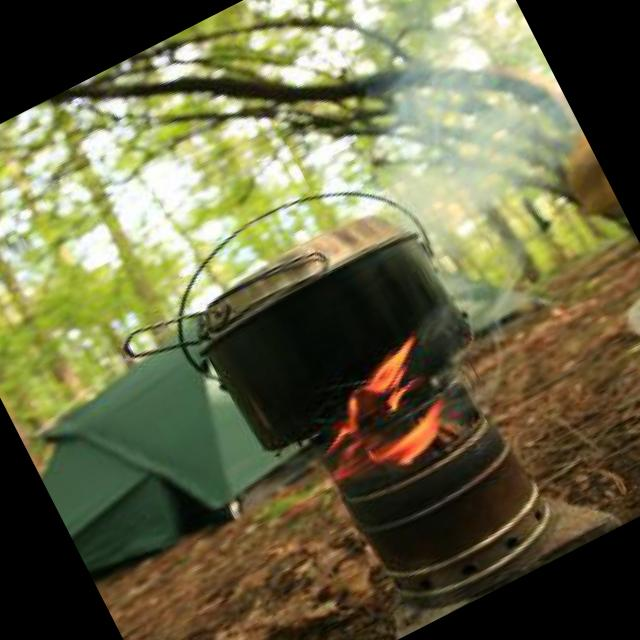fire: (232, 330, 476, 538)
smoke: (336, 0, 597, 247)
